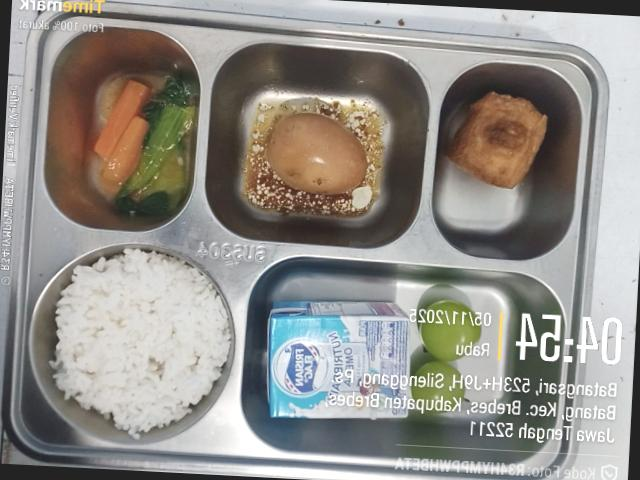buah: (412, 300, 481, 404)
nasi: (51, 249, 231, 438)
sayur: (53, 68, 198, 218)
susu: (268, 302, 410, 418)
tahu: (448, 92, 547, 188)
telur: (266, 113, 369, 194)
